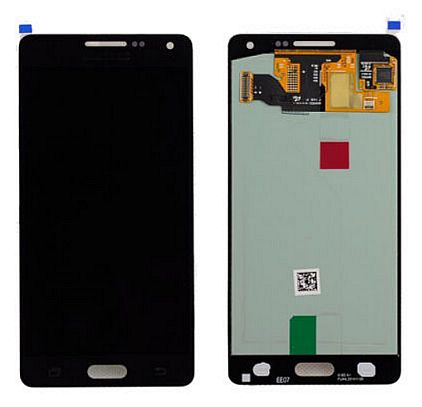Phone: (16, 25, 198, 389), (226, 20, 403, 387)
